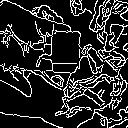cube: (46, 26, 88, 76)
